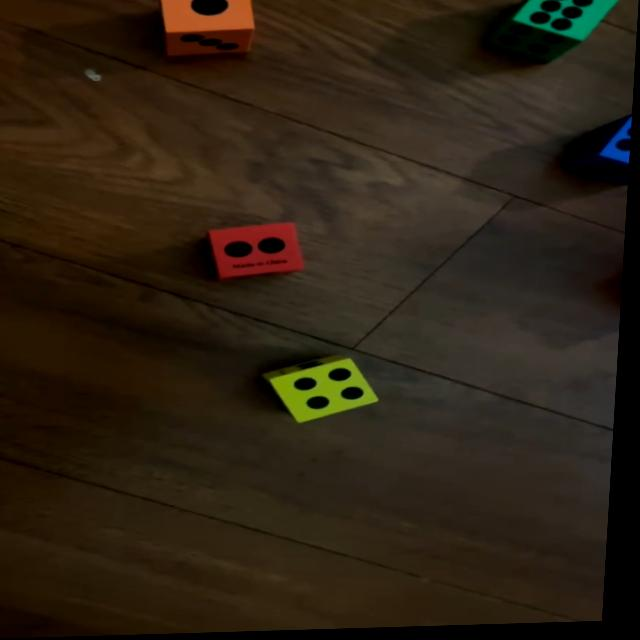cube: (486, 0, 622, 68), (206, 221, 309, 281), (572, 119, 634, 190)
